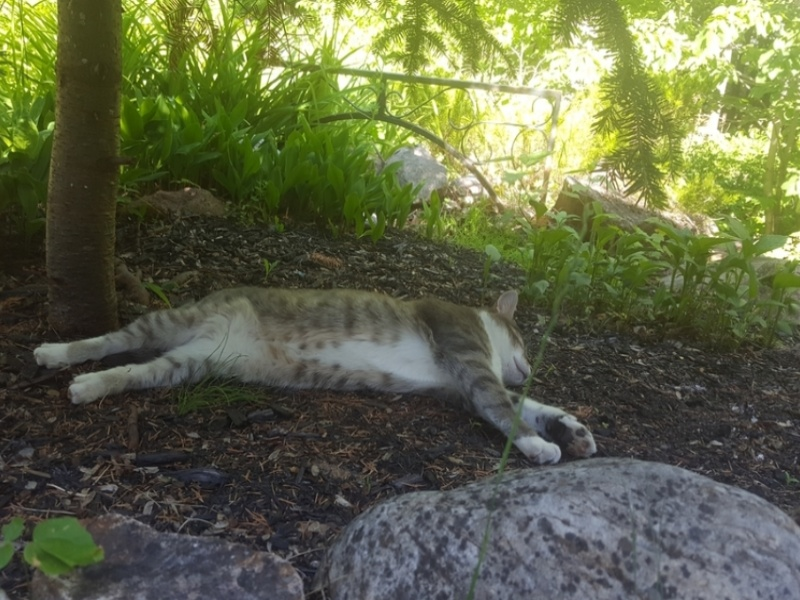cat: (31, 280, 600, 463)
